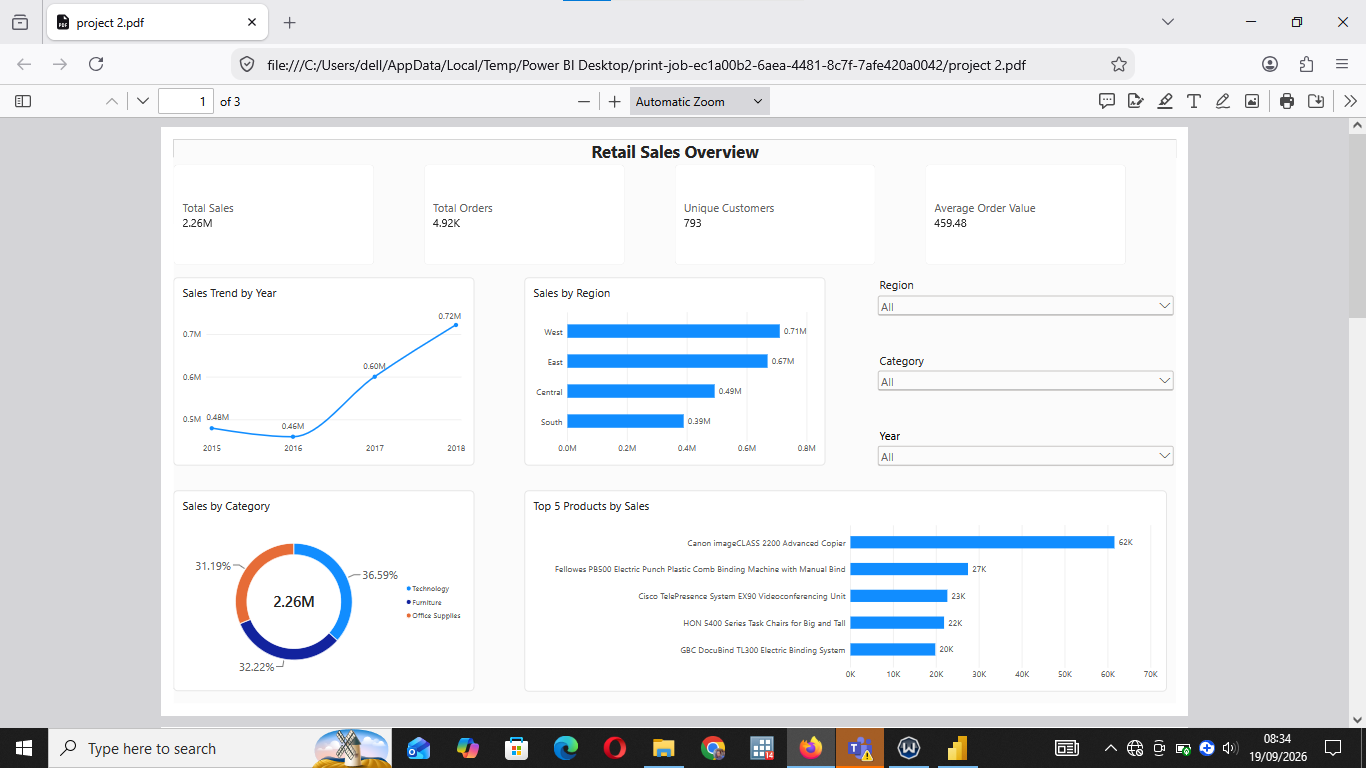

The page's visual inventory and layout, read from the dashboard file:
{"tool":"powerbi","page":{"name":"Page 1","canvas":[1920,1080],"ordinal":0},"visuals":[{"type":"lineChart","title":"Sales Trend by Year","fields":{"Category":["Date Table.Date.Variation.Date Hierarchy.Year","Date Table.Date.Variation.Date Hierarchy.Quarter","Date Table.Date.Variation.Date Hierarchy.Month","Date Table.Date.Variation.Date Hierarchy.Day"],"Y":["Sum(cleaned_retail_sales.Sales)"]},"box":[0,264,576,360],"z":1},{"type":"donutChart","title":"Sales by Category","fields":{"Category":["Dim_Product.Category"],"Y":["Sum(cleaned_retail_sales.Sales)"]},"box":[0,672,576,384],"z":2},{"type":"slicer","fields":{"Values":["Dim_Product.Category"]},"box":[1344,408,576,120],"z":5},{"type":"slicer","fields":{"Values":["Dim Region.Region"]},"box":[1344,264,576,120],"z":6},{"type":"cardVisual","fields":{"Data":["cleaned_retail_sales.Total sales"]},"box":[0,48,384,192],"z":7},{"type":"cardVisual","fields":{"Data":["cleaned_retail_sales.Total Order"]},"box":[480,48,384,192],"z":9},{"type":"cardVisual","fields":{"Data":["cleaned_retail_sales.Unique Customers"]},"box":[960,48,384,192],"z":10},{"type":"cardVisual","fields":{"Data":["cleaned_retail_sales.Average order value"]},"box":[1440,48,384,192],"z":11},{"type":"barChart","title":"Top 5 Products by Sales ","fields":{"Category":["Dim_Product.Product Name"],"Y":["cleaned_retail_sales.Total sales"]},"box":[672,672,1229.8,385.1],"z":12},{"type":"barChart","title":"Sales by Region","fields":{"Category":["Dim Region.Region"],"Y":["cleaned_retail_sales.Total sales"]},"box":[672,264,576,360],"z":13},{"type":"slicer","fields":{"Values":["Date Table.Year"]},"box":[1344,552,576,120],"z":14},{"type":"textbox","box":[96,0,1728,48],"z":15}]}

Visuals, with their boxes on the page's 1920x1080 design canvas (x1, y1, x2, y2). These are canvas units, not pixel positions in the 1366x768 screenshot, which may show the page scaled, cropped or inside an application window:
"Sales Trend by Year" lineChart: 0,264,576,624
"Sales by Category" donutChart: 0,672,576,1056
slicer - Dim_Product.Category: 1344,408,1920,528
slicer - Dim Region.Region: 1344,264,1920,384
cardVisual - cleaned_retail_sales.Total sales: 0,48,384,240
cardVisual - cleaned_retail_sales.Total Order: 480,48,864,240
cardVisual - cleaned_retail_sales.Unique Customers: 960,48,1344,240
cardVisual - cleaned_retail_sales.Average order value: 1440,48,1824,240
"Top 5 Products by Sales " barChart: 672,672,1902,1057
"Sales by Region" barChart: 672,264,1248,624
slicer - Date Table.Year: 1344,552,1920,672
textbox: 96,0,1824,48
